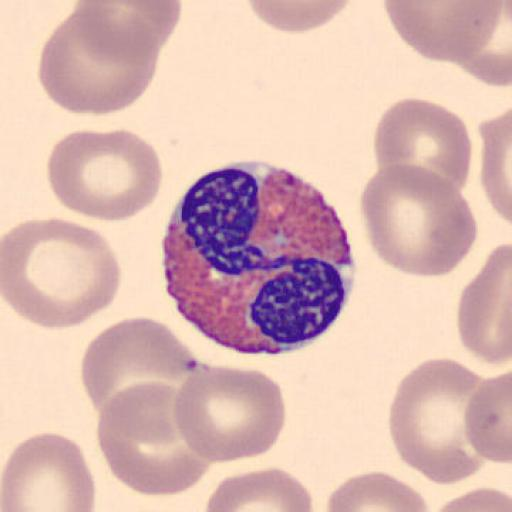RBC: (96, 380, 215, 500), (358, 161, 478, 279), (2, 217, 122, 332), (80, 316, 202, 427), (36, 10, 160, 116), (387, 356, 485, 486), (172, 360, 286, 465), (46, 128, 164, 224), (371, 94, 472, 199), (381, 0, 505, 65), (1, 430, 96, 512), (456, 240, 512, 366), (72, 0, 183, 52), (453, 0, 512, 88), (204, 465, 314, 512), (463, 366, 512, 466), (325, 469, 431, 512), (479, 106, 512, 228), (245, 0, 356, 35), (431, 485, 512, 512)
WBC: (162, 158, 356, 358)
